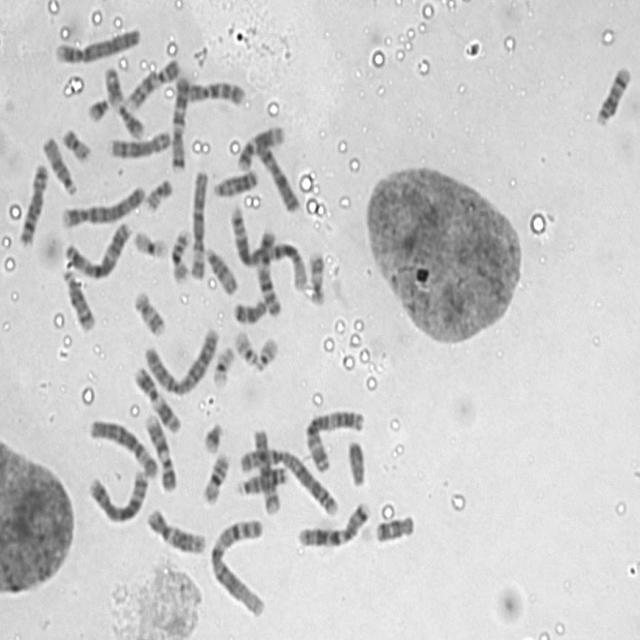A1: (204, 510, 268, 619), (248, 241, 311, 319)
A2: (235, 439, 342, 517), (138, 319, 221, 397)
A3: (58, 213, 134, 280), (299, 401, 366, 473)
B4: (55, 177, 148, 230), (49, 18, 143, 65)
B5: (82, 462, 150, 525), (229, 206, 275, 269)
C10: (247, 417, 286, 525), (181, 72, 247, 106)
C11: (128, 359, 183, 435), (100, 59, 146, 139)
C12: (142, 500, 208, 556), (233, 118, 287, 172)
C6: (84, 411, 160, 479), (184, 162, 210, 282)
C7: (292, 495, 372, 549), (166, 69, 191, 172)
C8: (14, 155, 50, 247), (104, 123, 173, 160)
C9: (122, 51, 181, 110), (139, 406, 179, 493)
D13: (232, 459, 290, 497), (208, 162, 260, 198)
D14: (591, 57, 633, 128), (57, 261, 97, 333)
D15: (37, 128, 78, 196), (200, 239, 240, 296)
E16: (196, 444, 232, 506), (165, 222, 192, 284)
E17: (128, 283, 168, 338), (303, 243, 327, 307)
E18: (370, 506, 416, 544), (228, 290, 269, 326)
F19: (128, 222, 168, 260), (208, 338, 236, 389)
F20: (56, 120, 92, 163), (140, 171, 175, 213)
G21: (198, 414, 225, 455), (82, 89, 111, 123)
G22: (250, 328, 280, 373), (230, 323, 260, 367)
X: (250, 135, 302, 214)
Y: (342, 433, 367, 487)
